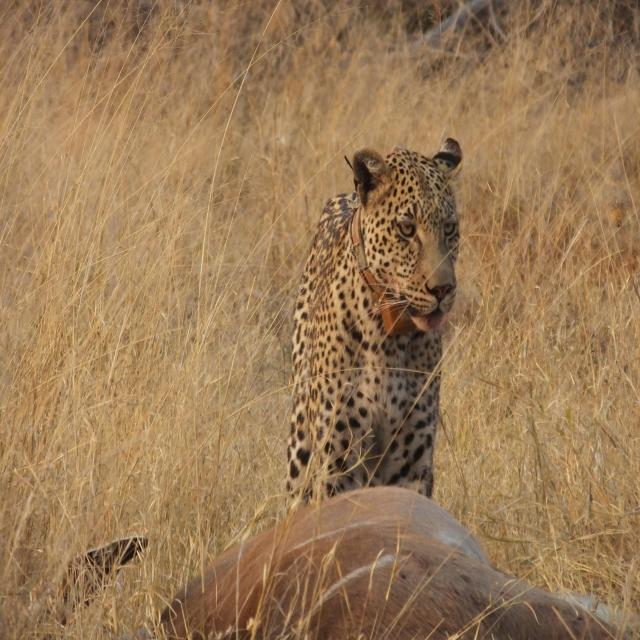Leopard: (285, 126, 464, 528)
